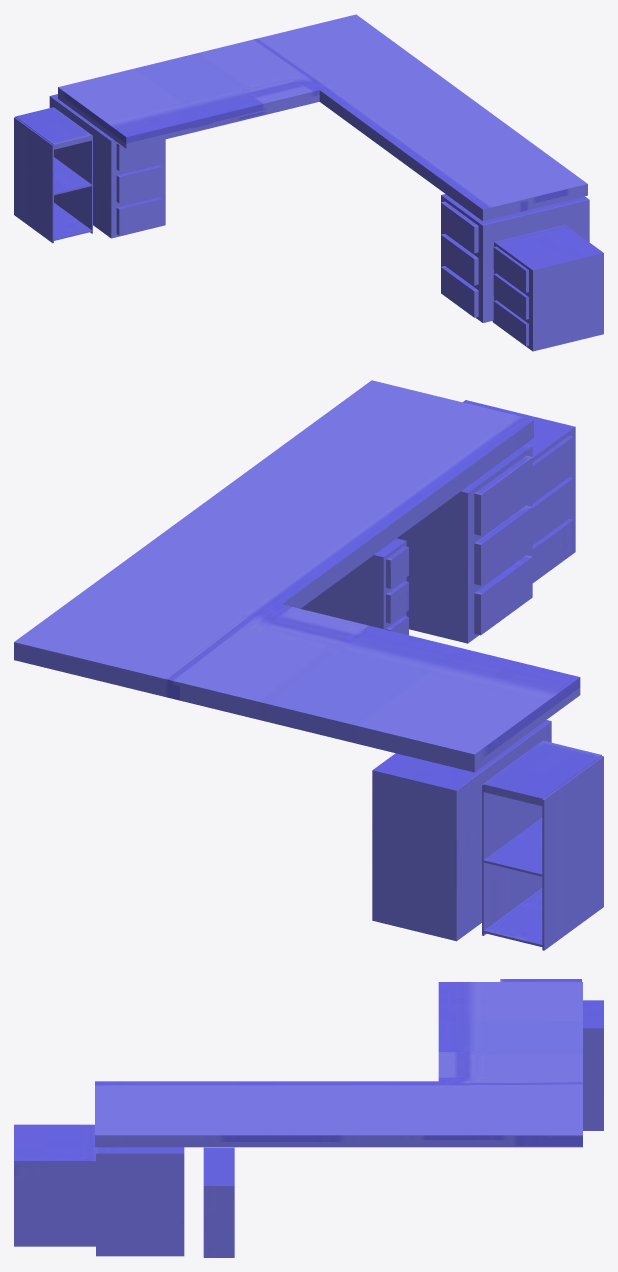
Rendered from table.glb.
3 renders of one model, top to bottom at view 1: azimuth 30°, elevation 25°; view 2: azimuth 150°, elevation 25°; view 3: azimuth 270°, elevation 25°, orthographic. The views are drawn at different scales.
Visible parts, largest first — view 1: Cube.011; view 2: Cube.011; view 3: Cube.011.
Boxes of the visible parts, x1,y1,x2,y2 form: Cube.011: (14, 14, 603, 351); Cube.011: (14, 380, 603, 950); Cube.011: (14, 979, 603, 1257).
Size of the model in its own units: 2.91 by 0.9407 by 4.09.
1 material, 1 textured.
